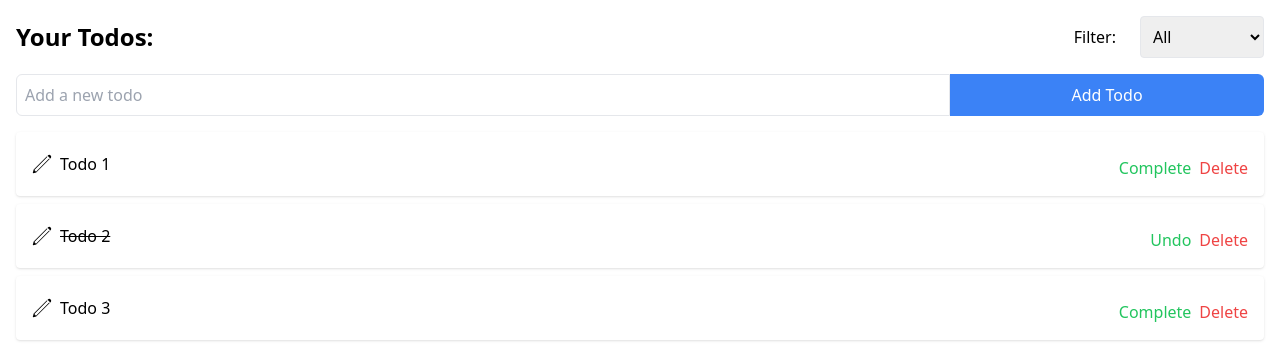
Test case: TodoList.vue › renders the component and filters todos correctly
This screenshot has width=1281, height=358.
Expected: the number of "TodoItem" components is 3, [16,132,1264,196]; [16,204,1264,268]; [16,276,1264,340]
Test the filter dropdown
Select "Incomplete" in the dropdown: (1202, 37) [1140,16,1264,58]
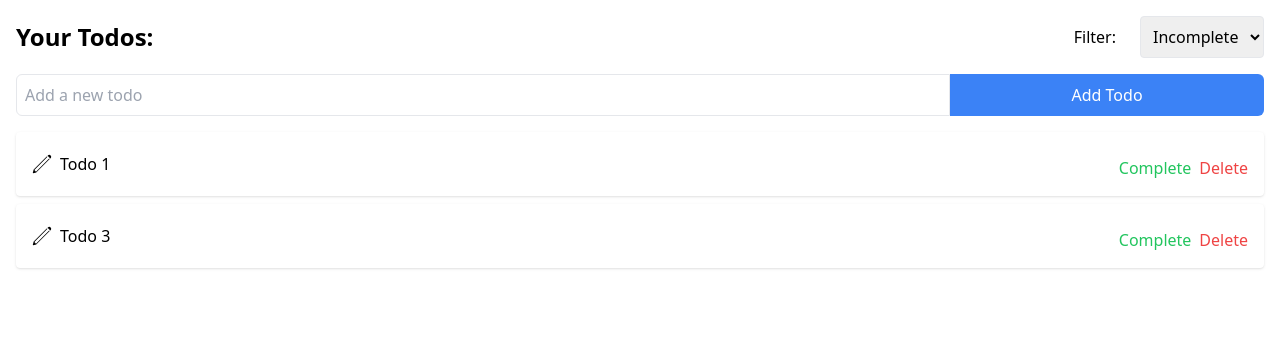
Now the number of "TodoItem" components is 2, box [16,132,1264,196]; [16,204,1264,268]
Select "Complete" in the dropdown: (1202, 37) [1140,16,1264,58]
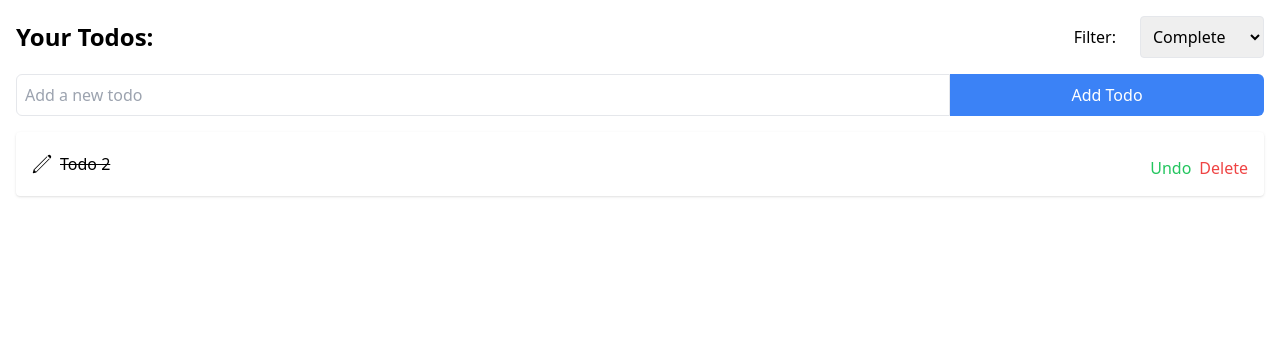
Now the number of "TodoItem" components is 1, box [16,132,1264,196]
Select "All" in the dropdown: (1202, 37) [1140,16,1264,58]
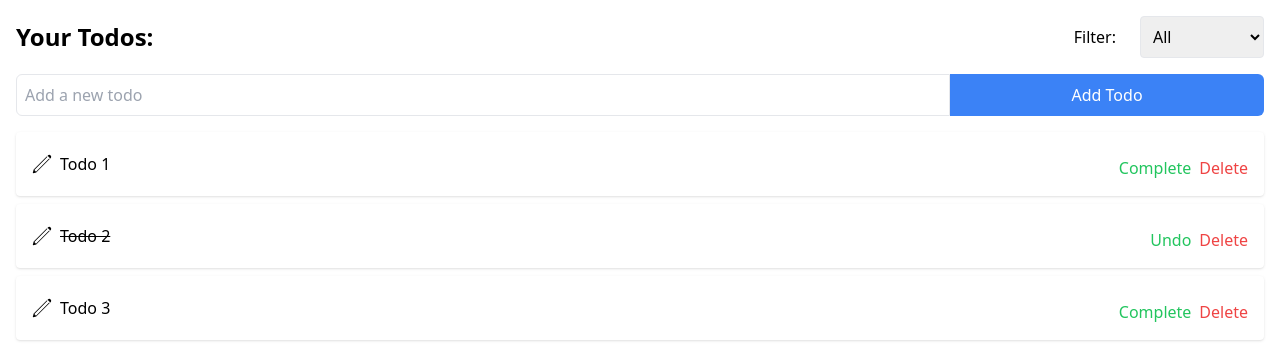
Now the number of "TodoItem" components is 3, box [16,132,1264,196]; [16,204,1264,268]; [16,276,1264,340]
